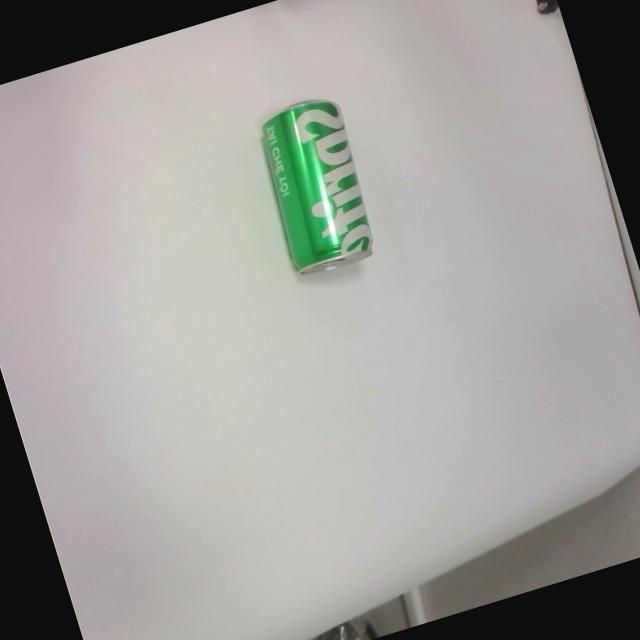debris: (246, 88, 385, 280)
